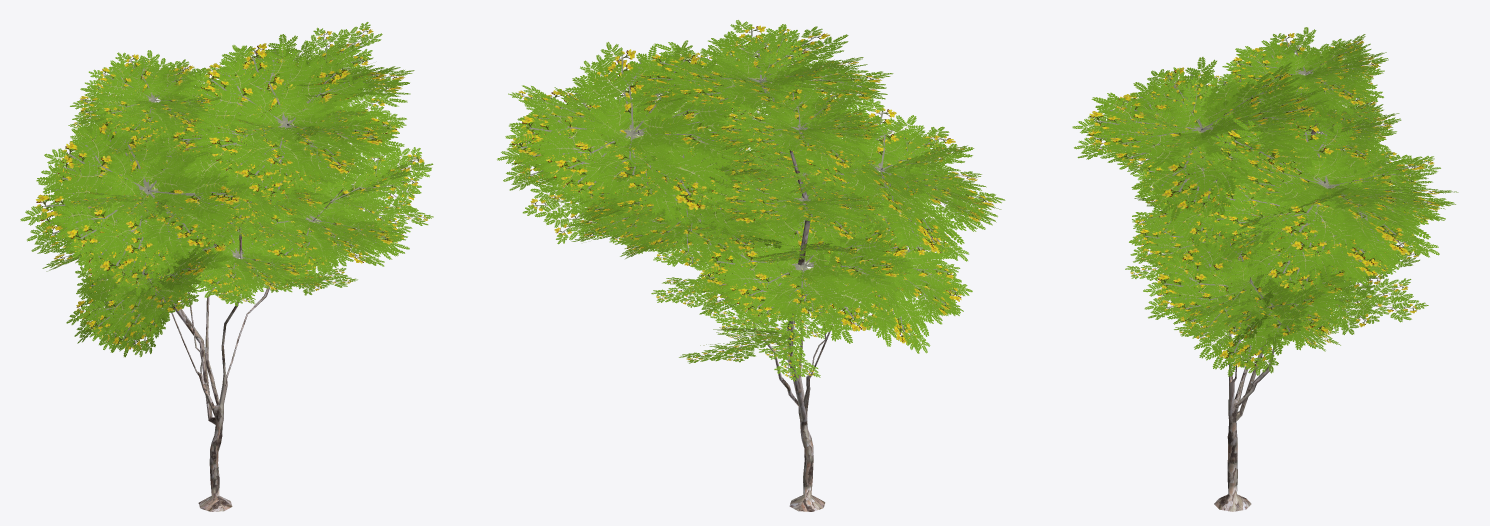
Rendered from EBANO.fbx.
3 renders of one model, left to right at view 1: azimuth 30°, elevation 25°; view 2: azimuth 150°, elevation 25°; view 3: azimuth 270°, elevation 25°, orthographic. The views are drawn at different scales.
Visible parts, largest first — view 1: ebano_LOD0; view 2: ebano_LOD0; view 3: ebano_LOD0.
Boxes of the visible parts, x1,y1,x2,y2 form: ebano_LOD0: [20, 22, 433, 511]; ebano_LOD0: [497, 20, 1005, 511]; ebano_LOD0: [1072, 27, 1458, 511].
Size of what is drawn, in the model's own units: 10.59 by 9.85 by 8.32.
